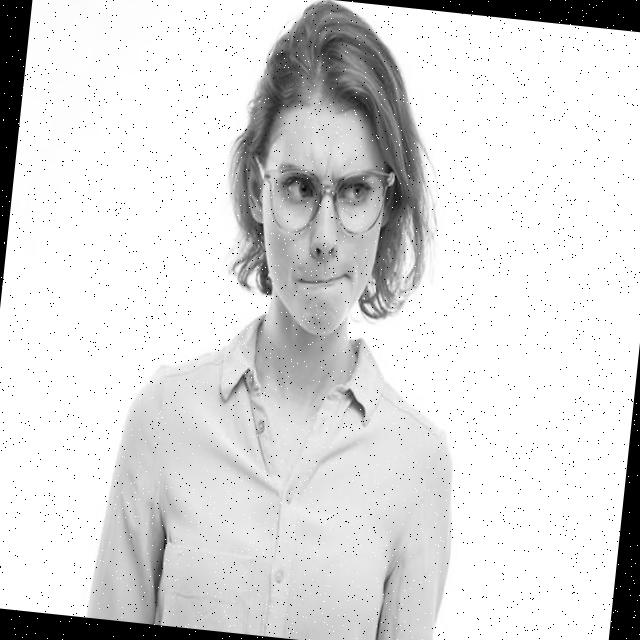Angry: (246, 104, 392, 340)
